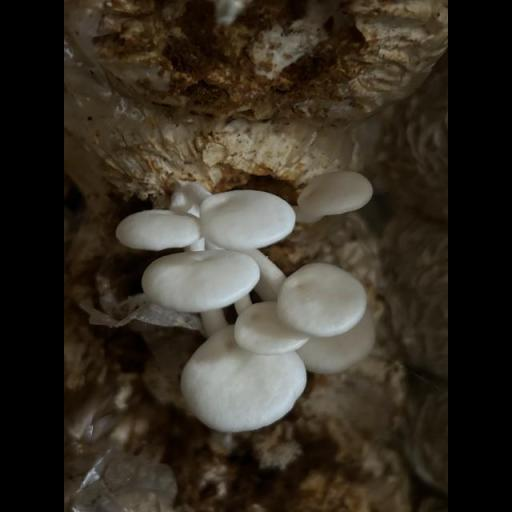White Oyster Mushroom: (104, 158, 387, 440)
